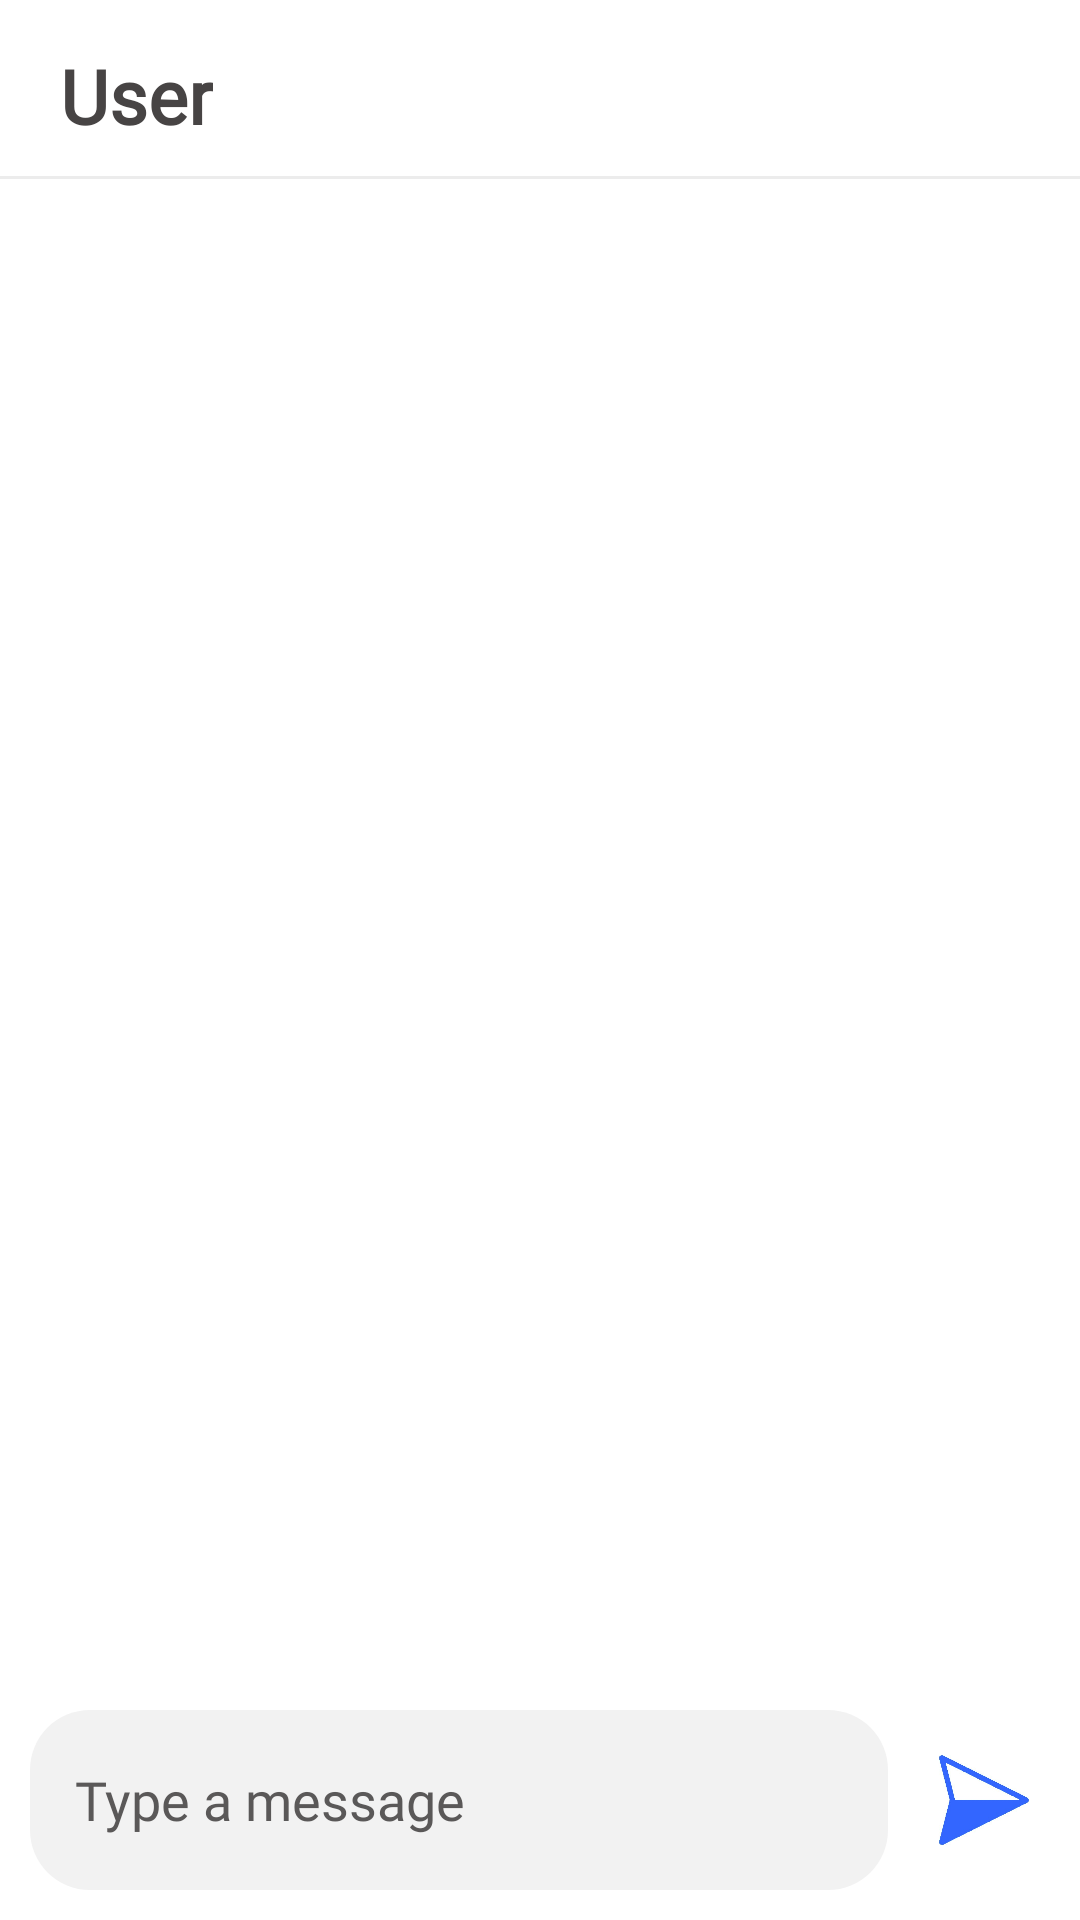

Where to tap for icons on this 1080px×1920px app screen, as [x,y]:
send: [984,1800]
